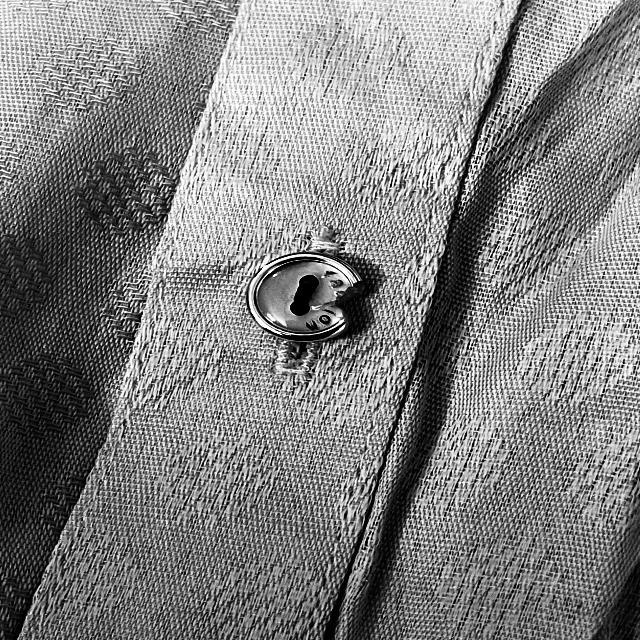Broken_button: (244, 239, 373, 364)
